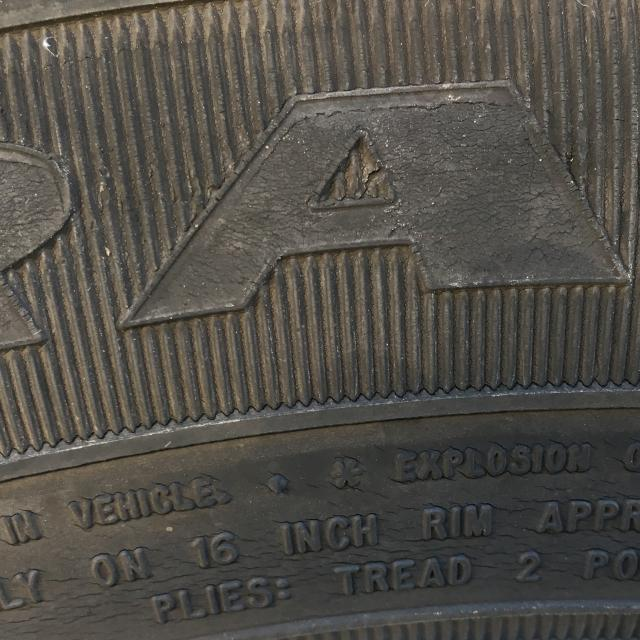Cracks: (0, 40, 640, 333), (0, 491, 640, 640)
